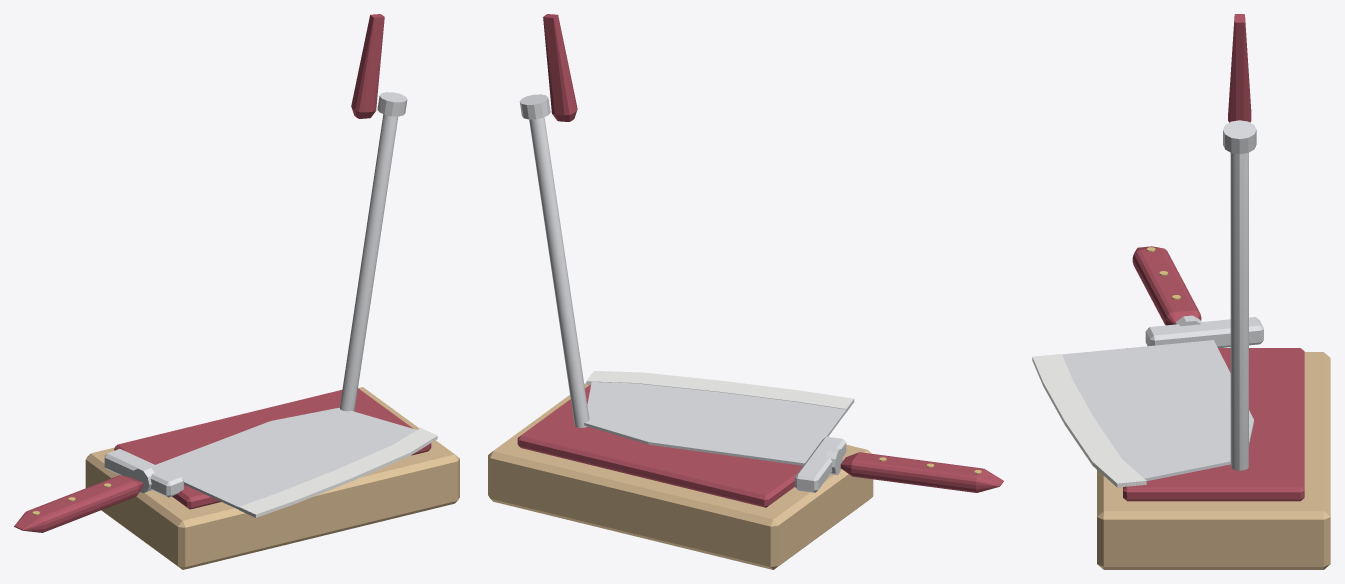
The model's file is butchers-shop-and-deli-counter-steel-and-cleaver-stand-2bc81c8b__34451.glb.
3 views of the same model, side by side, from view 1: azimuth 30°, elevation 25°; view 2: azimuth 150°, elevation 25°; view 3: azimuth 270°, elevation 25° (orthographic). The views are drawn at different scales.
Parts seen in each view (by area): view 1: steel-and-cleaver-stand; view 2: steel-and-cleaver-stand; view 3: steel-and-cleaver-stand.
Part boxes in pixels (box(x1,y1,x2,y2)): steel-and-cleaver-stand: box(14, 14, 459, 569); steel-and-cleaver-stand: box(488, 14, 1003, 569); steel-and-cleaver-stand: box(1032, 14, 1330, 569).
Bounding box in the file's own units: 0.4555 × 0.4597 × 0.2298.
